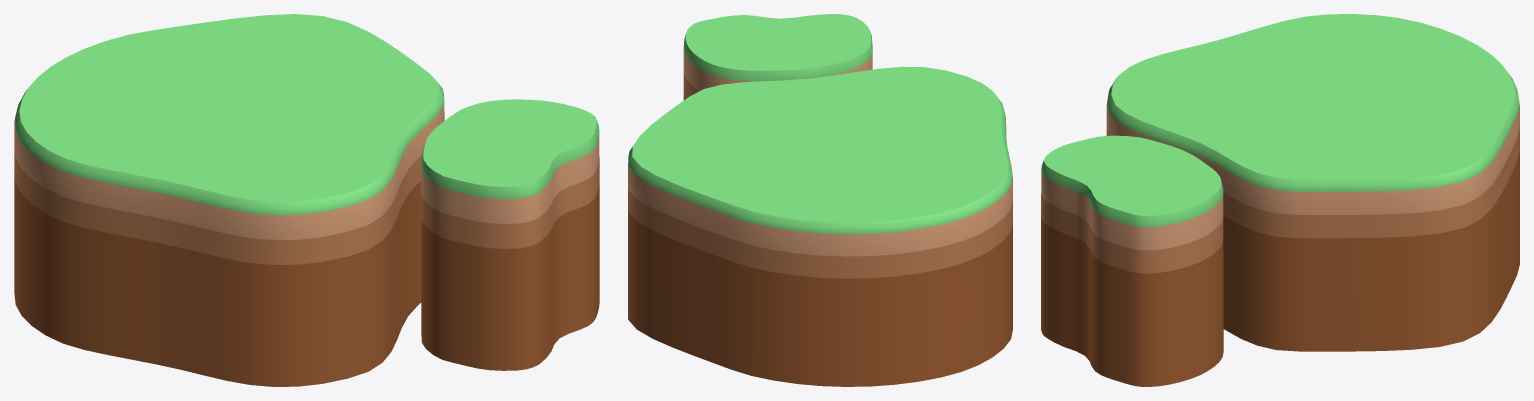
File: island two.fbx
3 views of the same model, side by side, from view 1: azimuth 30°, elevation 25°; view 2: azimuth 150°, elevation 25°; view 3: azimuth 270°, elevation 25° (orthographic). The views are drawn at different scales.
Parts seen in each view (by area): view 1: Cylinder.001; view 2: Cylinder.001; view 3: Cylinder.001.
Boxes of the visible parts, box(x1,y1,x2,y2) form: Cylinder.001: box(14, 14, 599, 386); Cylinder.001: box(628, 14, 1012, 386); Cylinder.001: box(1041, 14, 1519, 386).
Bounding box in the file's own units: 12.4 × 4.8 × 12.23.
